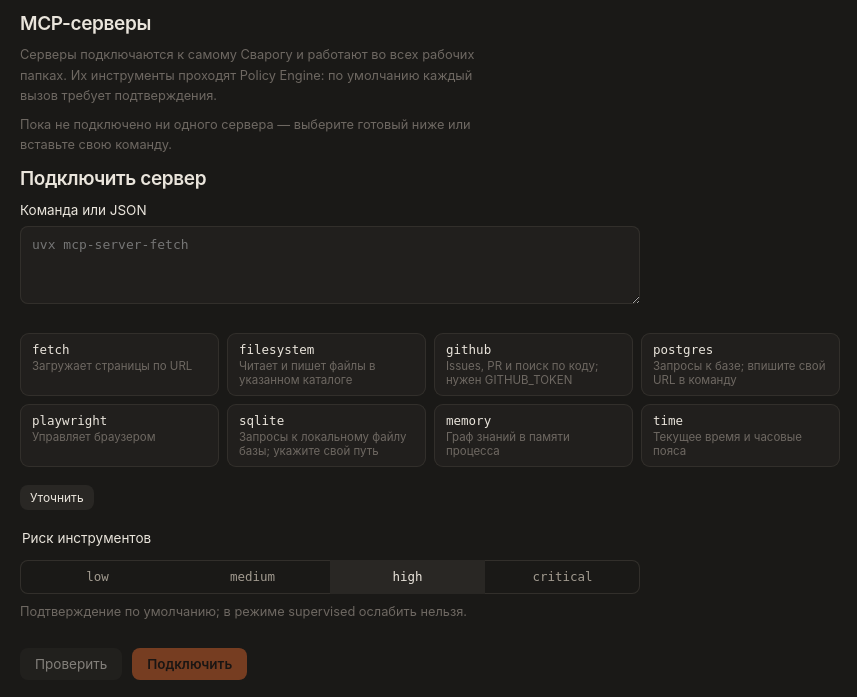
Test: вкладка MCP: подключение › провал проверки показан честно
The width and height of the screenshot is (857, 697).
Type "нет-такой" into the text box labelled "Команда или JSON".
click(330, 265); type("нет-такой")  # box x1=20 y1=226 x2=640 y2=304
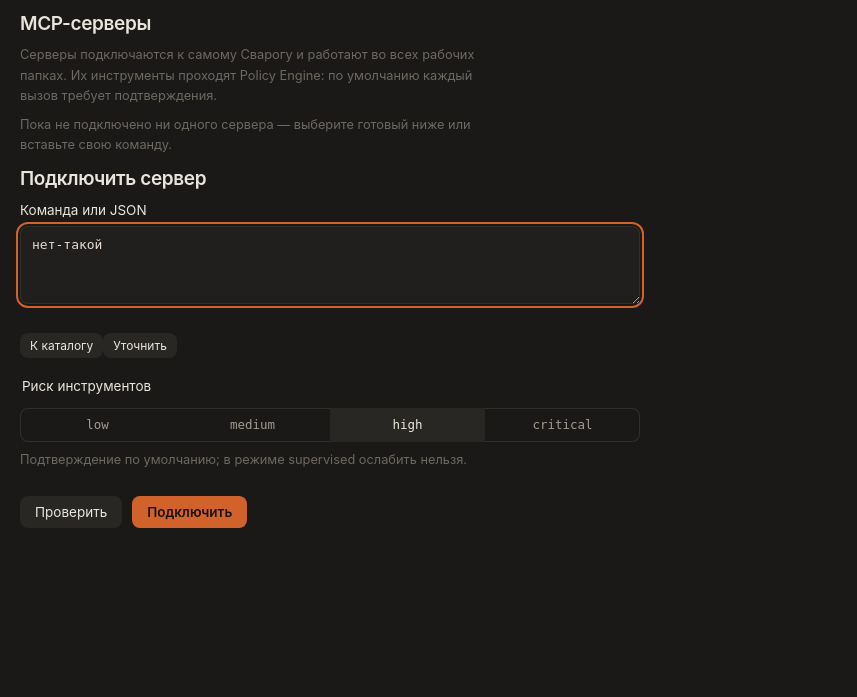
Click the button "Проверить".
click(71, 512)  # box x1=20 y1=496 x2=122 y2=528
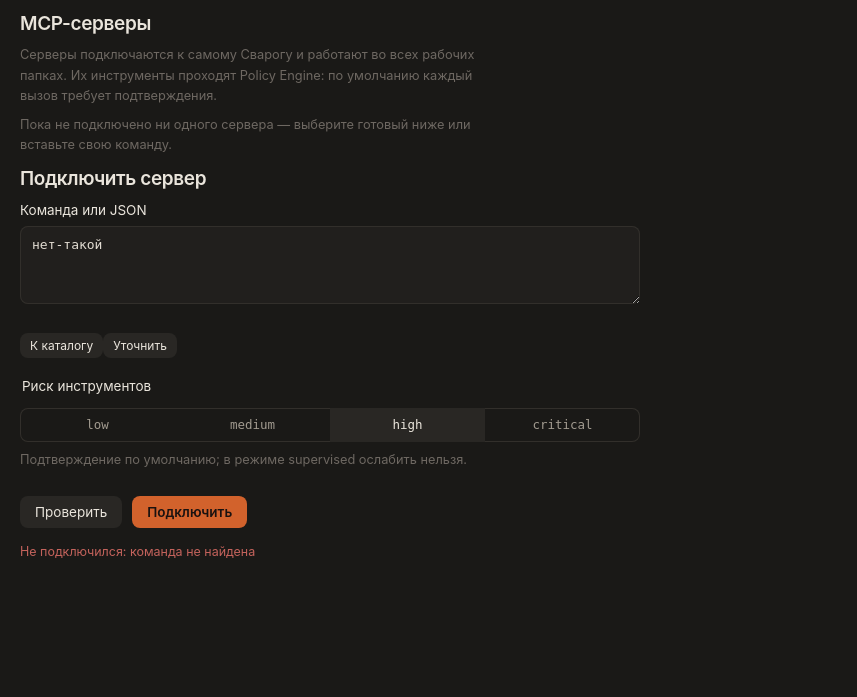
Expected: the message shows "команда не найдена", x1=130 y1=544 x2=255 y2=559
